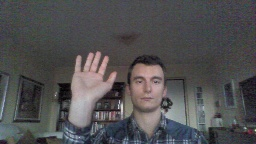Mano_aperta: (68, 49, 119, 103)
